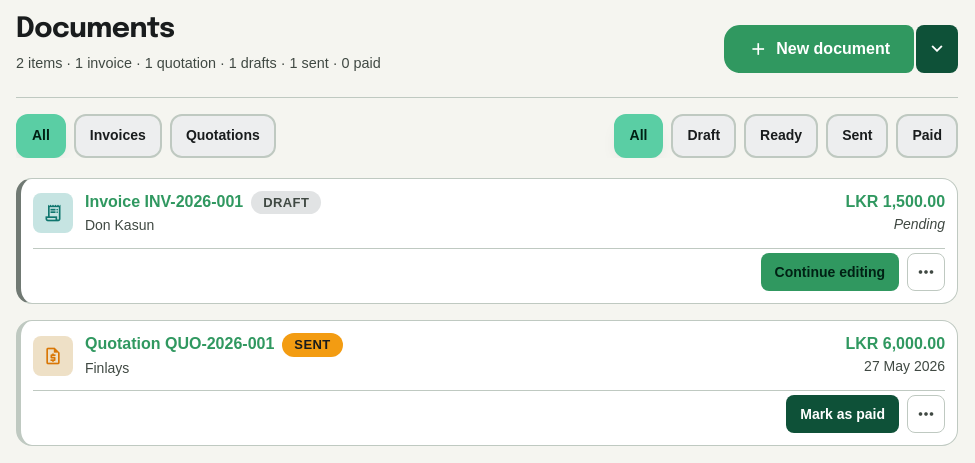
Documents page › filters to invoices only when Invoices toggle clicked
Click the radio button labelled "Invoices": point(118, 136) [74,114,162,158]
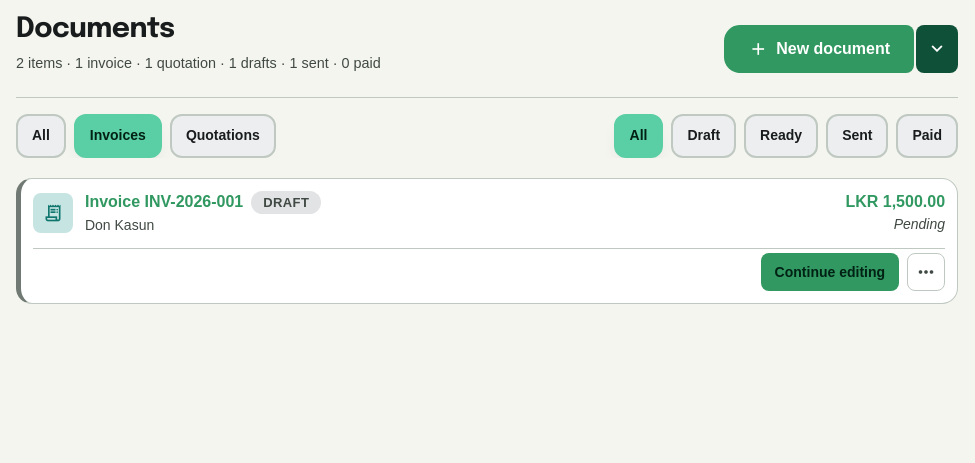
Expected: the text "Don Kasun" is shown, [85,217,154,233]
Expected: the text "Finlays" is gone
